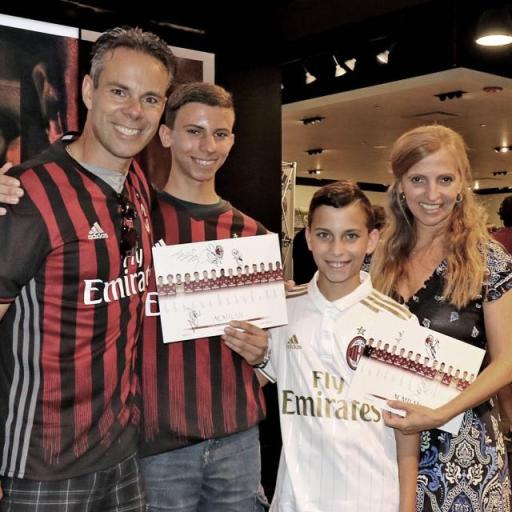Adidas: (88, 222, 108, 240), (286, 332, 302, 351)
Emirates: (279, 368, 384, 426), (81, 243, 150, 307)
